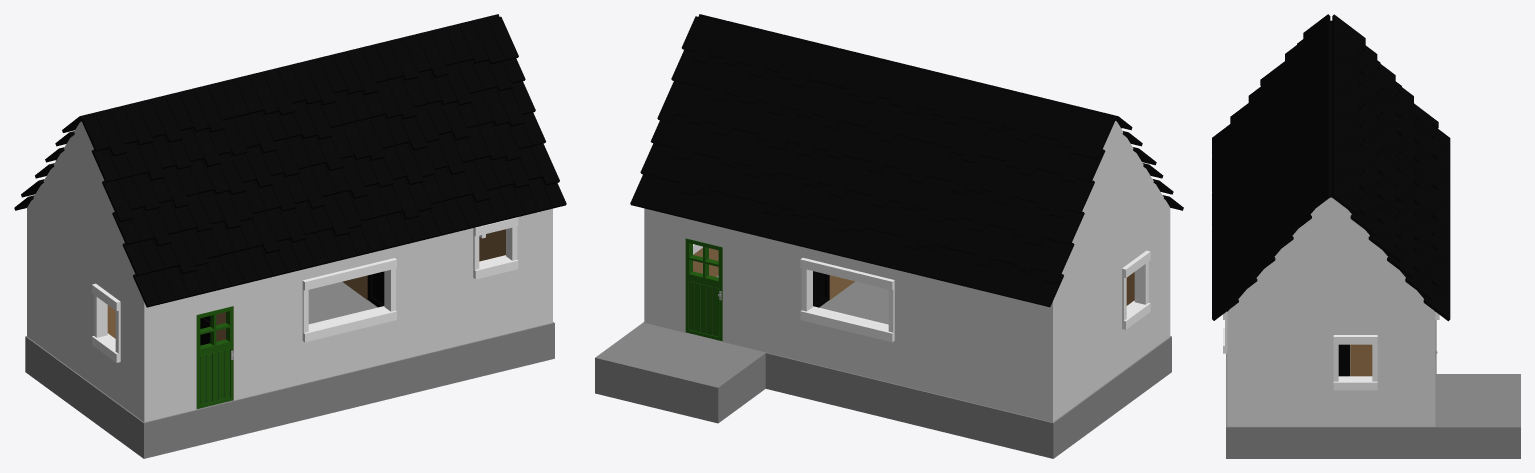
File: HouseTextureTest3.fbx
The picture shows the model from 3 angles, left to right: view 1: azimuth 30°, elevation 25°; view 2: azimuth 150°, elevation 25°; view 3: azimuth 270°, elevation 25°; orthographic projection. The views are drawn at different scales.
Visible parts, largest first — view 1: Roof 2, House, Door Front, Door Kitchen; view 2: House, Roof 2, Door Back; view 3: House, Roof 2, Door Kitchen.
Boxes of the visible parts, x1,y1,x2,y2 form: Roof 2: [14, 14, 566, 307]; House: [25, 121, 554, 458]; Door Front: [196, 306, 233, 408]; Door Kitchen: [367, 271, 384, 307]; House: [595, 121, 1171, 458]; Roof 2: [630, 14, 1183, 307]; Door Back: [685, 238, 722, 341]; House: [1223, 20, 1520, 458]; Roof 2: [1212, 14, 1450, 321]; Door Kitchen: [1338, 344, 1349, 376].
Bounding box in the file's own units: 1021 × 695 × 733.
